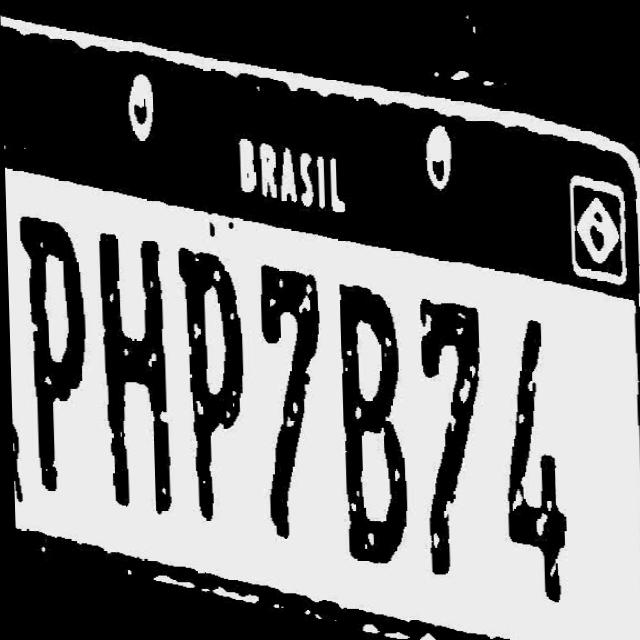4: (497, 318, 567, 604)
7: (416, 298, 484, 576), (257, 264, 324, 540)
b: (335, 284, 407, 566)
h: (98, 232, 171, 516)
p: (174, 247, 246, 524), (17, 214, 87, 493)
